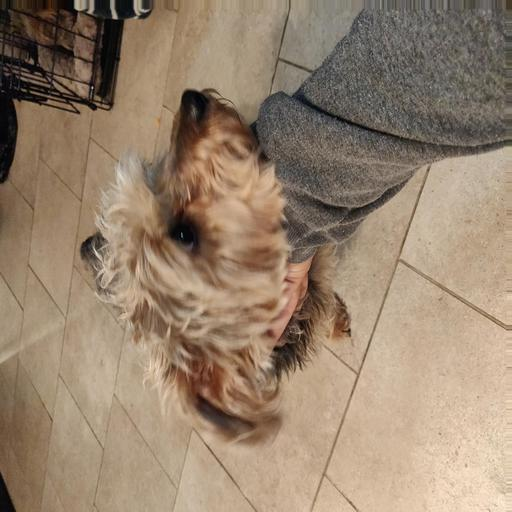dog: (64, 93, 328, 357)
